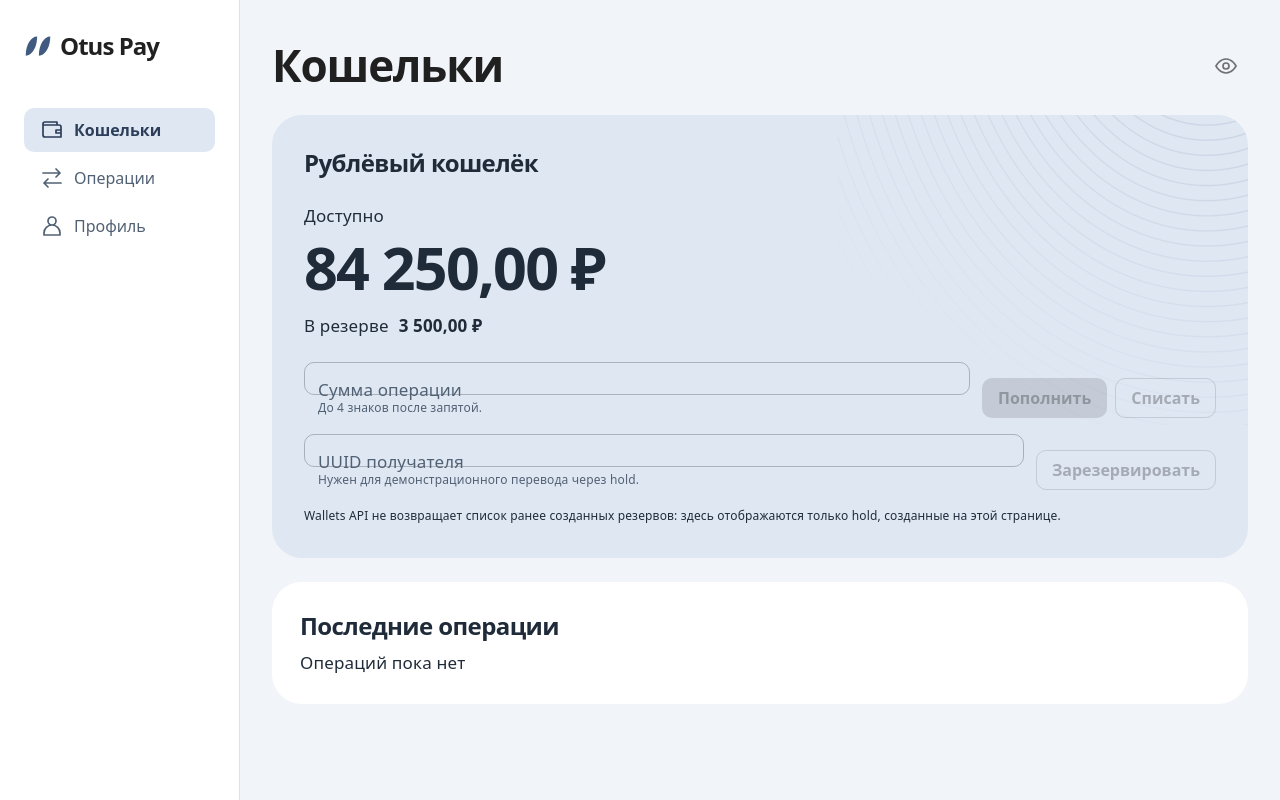
Test case: router › marks the selected destination when switching between wallets, operations and the profile
The width and height of the screenshot is (1280, 800).
Click the link "Операции" at (98, 178), box [40, 166, 155, 190]
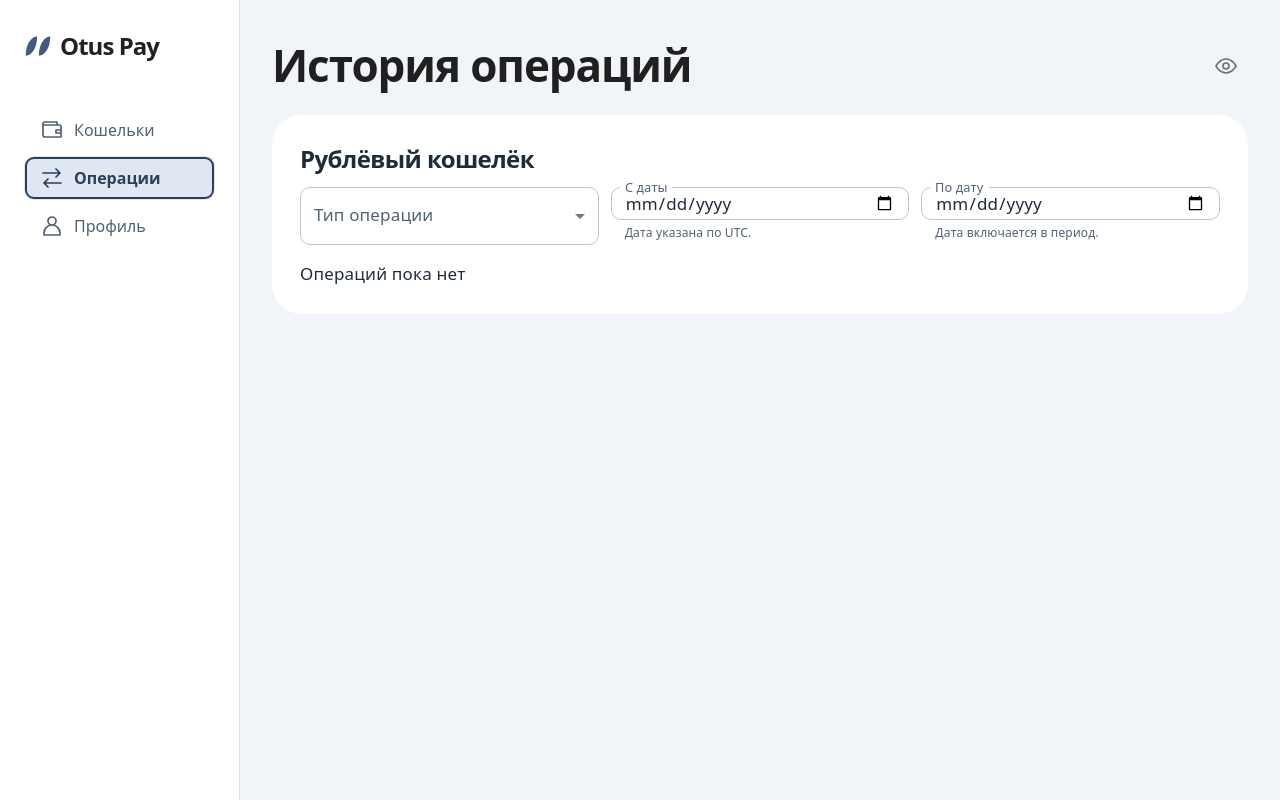
Expected: the heading "История операций" is shown, [272, 40, 691, 91]
Click the link "Кошельки" at (97, 130), box [40, 118, 154, 142]
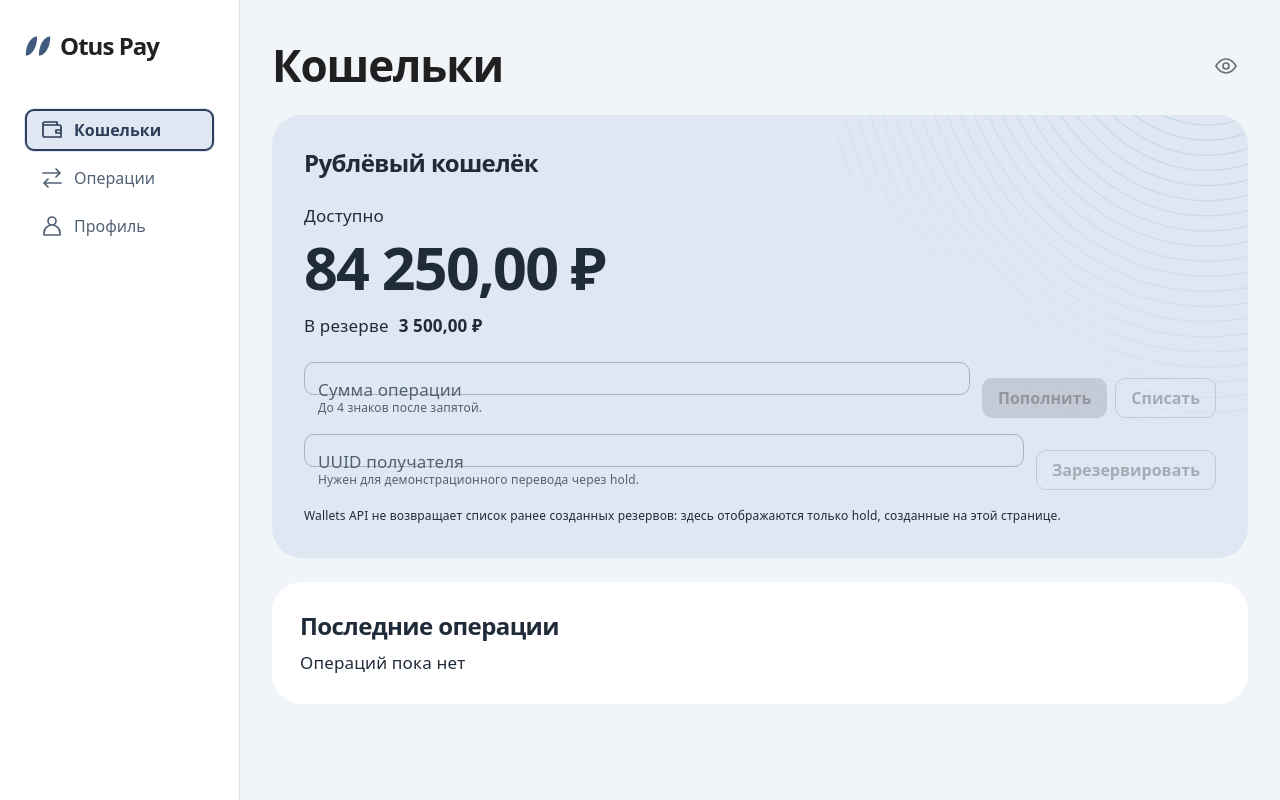
Expected: the link "Кошельки" is marked as current, [24, 108, 215, 152]
Expected: the link "Операции" does not have attribute aria-current, [40, 166, 155, 190]
Click the link "Профиль" at (93, 226), box [40, 214, 146, 238]
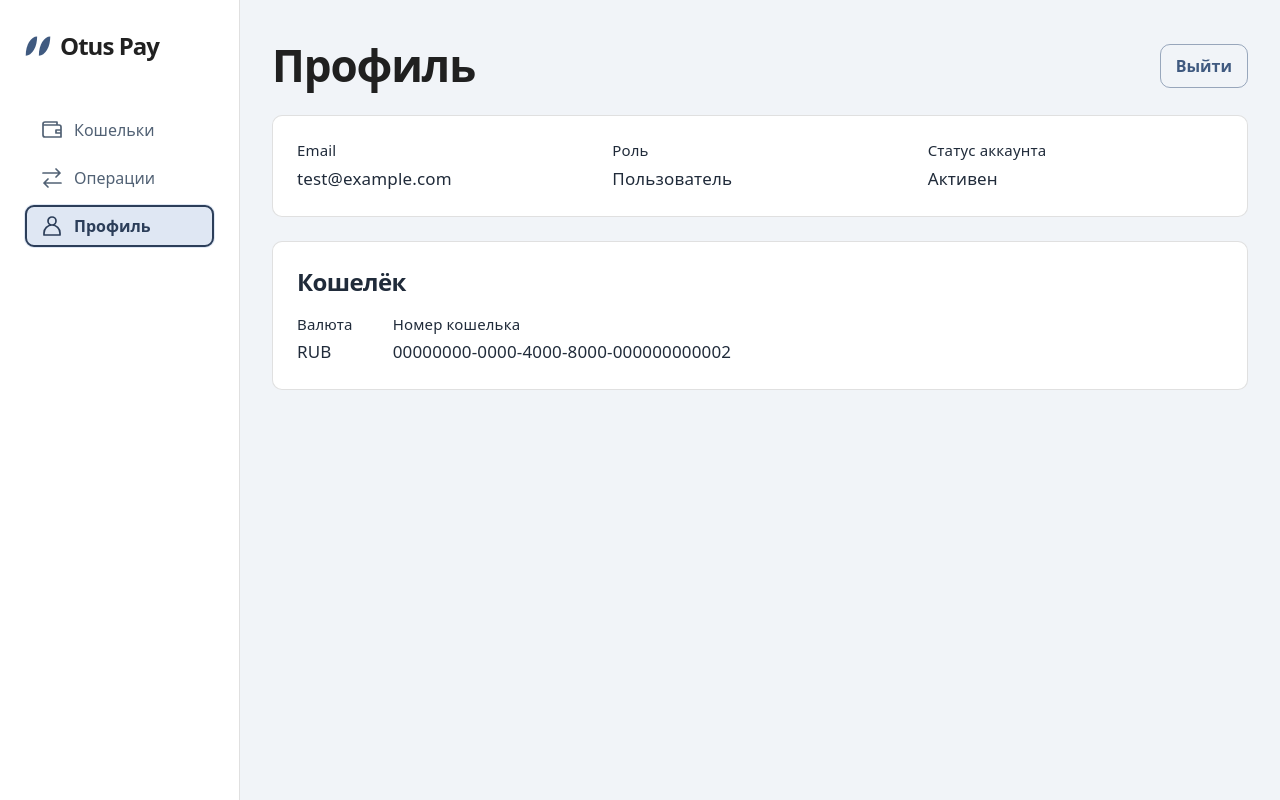
Expected: the heading "Профиль" is shown, [272, 40, 475, 91]
